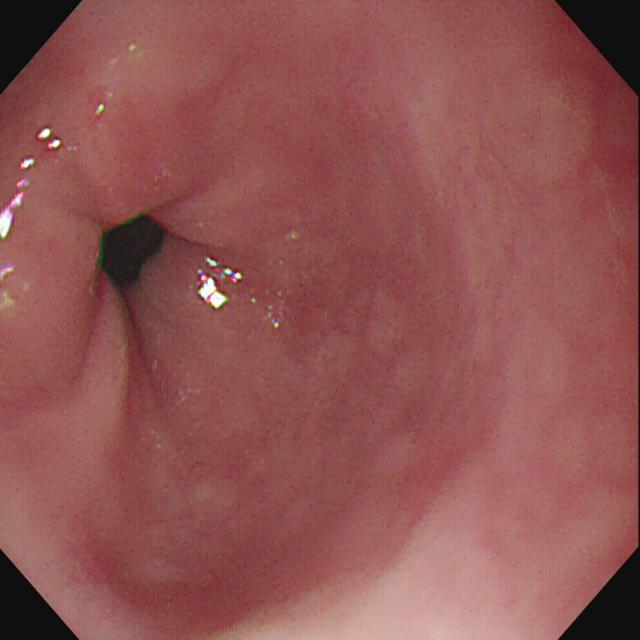A: (78, 529, 216, 624), (281, 277, 354, 362)
E: (102, 218, 164, 283)
U: (196, 257, 244, 310), (2, 179, 31, 243), (38, 128, 61, 151), (20, 158, 34, 171)
